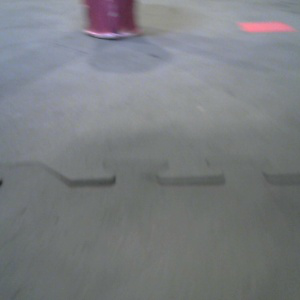middle: (81, 1, 142, 39)
